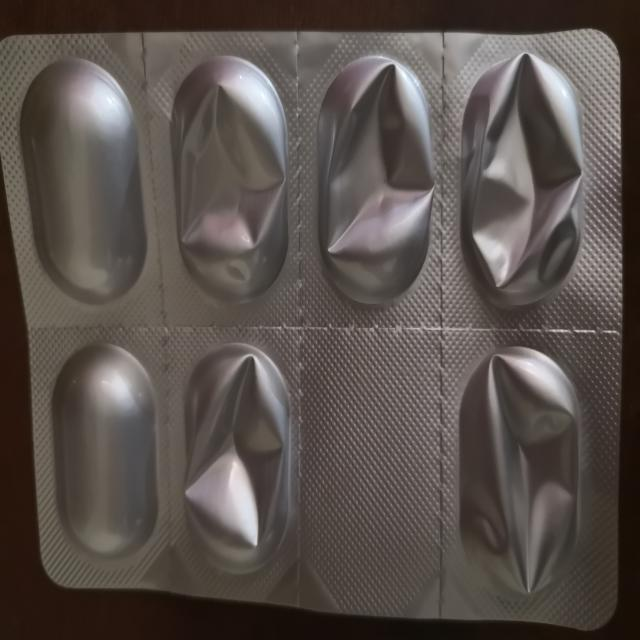Empty: (456, 49, 589, 314), (163, 52, 298, 306), (455, 342, 586, 603), (314, 57, 439, 312), (174, 338, 297, 582)
Pill: (15, 57, 148, 311), (43, 340, 163, 563)
